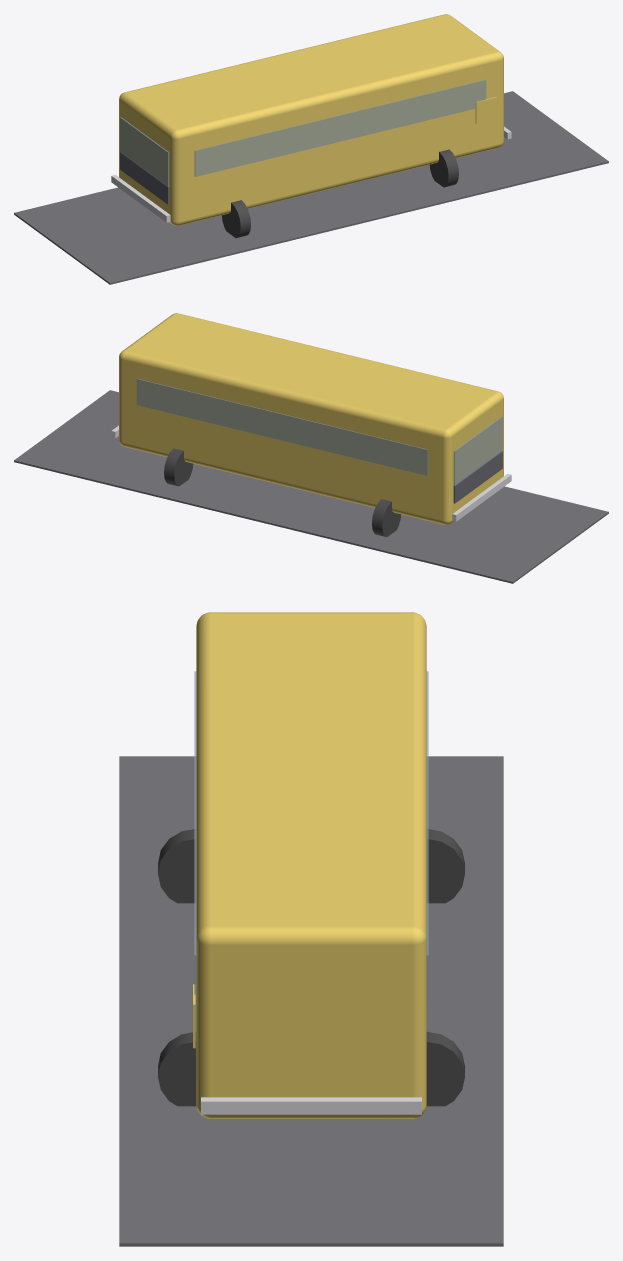
Rendered from school_bus.glb.
3 views of the same model, one above another, from view 1: azimuth 30°, elevation 25°; view 2: azimuth 150°, elevation 25°; view 3: azimuth 270°, elevation 25° (orthographic). The views are drawn at different scales.
Visible parts, largest first — view 1: body, ground, windows_l, windshield, grille, wheel_bl, wheel_fl, front_bumper, stop_arm; view 2: body, ground, windows_r, windshield, grille, wheel_br, wheel_fr, front_bumper; view 3: body, ground, rear_bumper, wheel_br, wheel_bl, wheel_fl, wheel_fr, windows_r, windows_l.
Boxes of the visible parts, <box> form: body: <box>119,14,503,225</box>; ground: <box>14,91,608,284</box>; windows_l: <box>194,79,486,176</box>; windshield: <box>120,117,169,186</box>; grille: <box>120,152,169,204</box>; wheel_bl: <box>429,149,458,187</box>; wheel_fl: <box>222,200,250,238</box>; front_bumper: <box>111,174,170,222</box>; stop_arm: <box>475,97,496,123</box>; body: <box>119,313,503,524</box>; ground: <box>14,390,608,583</box>; windows_r: <box>136,378,428,475</box>; windshield: <box>453,416,502,485</box>; grille: <box>453,451,502,503</box>; wheel_br: <box>164,448,193,486</box>; wheel_fr: <box>372,499,400,537</box>; front_bumper: <box>452,473,511,521</box>; body: <box>196,612,426,1118</box>; ground: <box>119,756,503,1246</box>; rear_bumper: <box>201,1097,421,1114</box>; wheel_br: <box>426,1031,464,1106</box>; wheel_bl: <box>158,1032,196,1106</box>; wheel_fl: <box>158,829,195,903</box>; wheel_fr: <box>427,829,464,903</box>; windows_r: <box>426,671,428,1007</box>; windows_l: <box>194,671,196,1007</box>.
Size of the model in its own units: 12 by 2.7 by 4.
